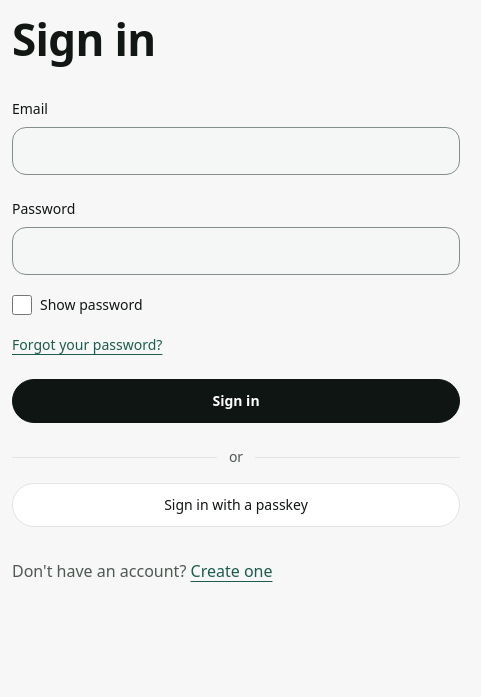
Test case: SignInPage › reports a network failure
Step 1. Type "reader@example.com" into the field labelled "Email" → (236, 151), box [12, 127, 460, 175]
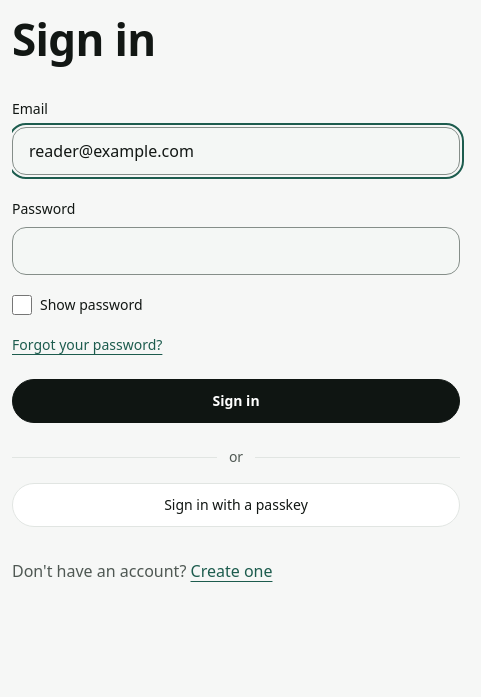
Step 2. Type "correct horse battery staple 42" into the password field labelled "Password" → (236, 251), box [12, 227, 460, 275]
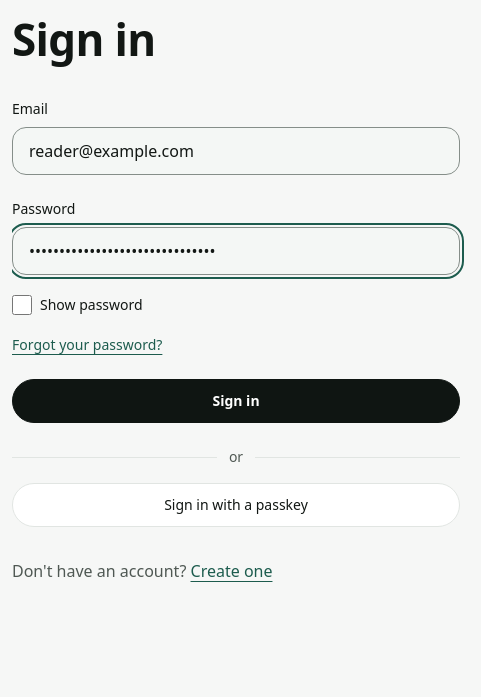
Step 3. Click the button "Sign in" → (236, 401), box [12, 379, 460, 423]
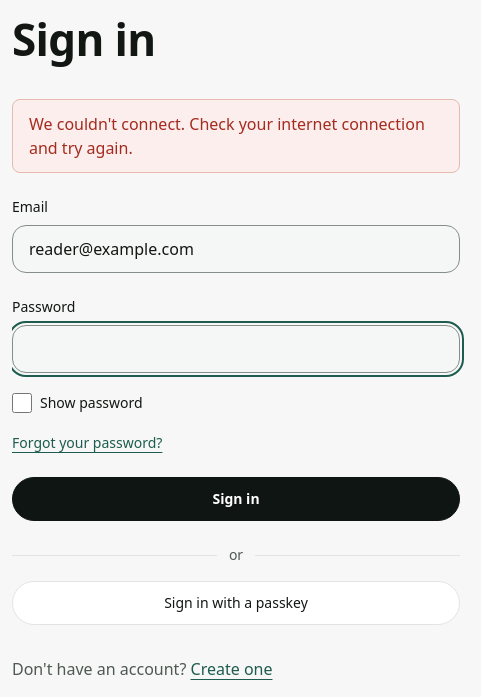
Result: the message shows "We couldn't connect" at [29, 113, 425, 159]
